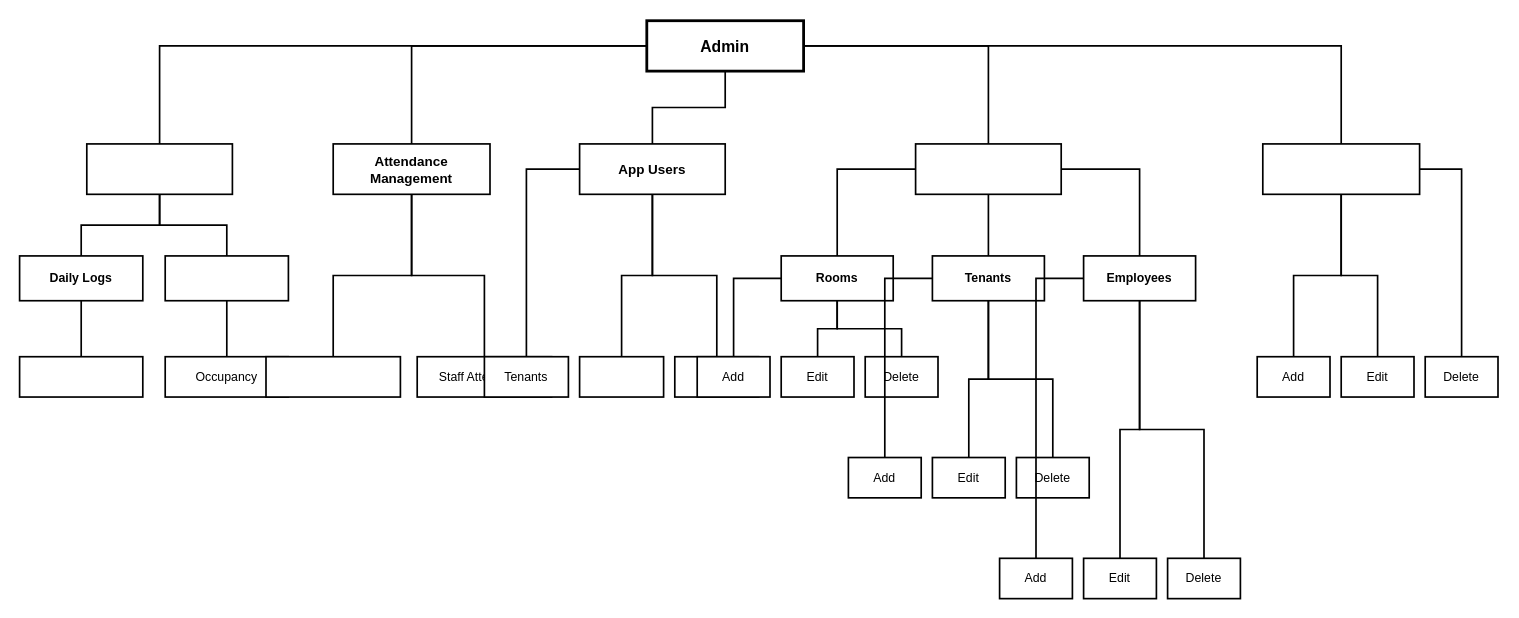
Image size: 1519x618. Some labels were removed from this diagram. Here are the shapes that lost their labels. From the top down, the centre of each, then its label:
At pixel 159 169: "Reports".
At pixel 988 169: "Masters".
At pixel 1340 169: "Maintenance Management".
At pixel 226 278: "Monthly".
At pixel 80 376: "Defaulters".
At pixel 333 376: "Mess Attendance".
At pixel 621 376: "Staff".
